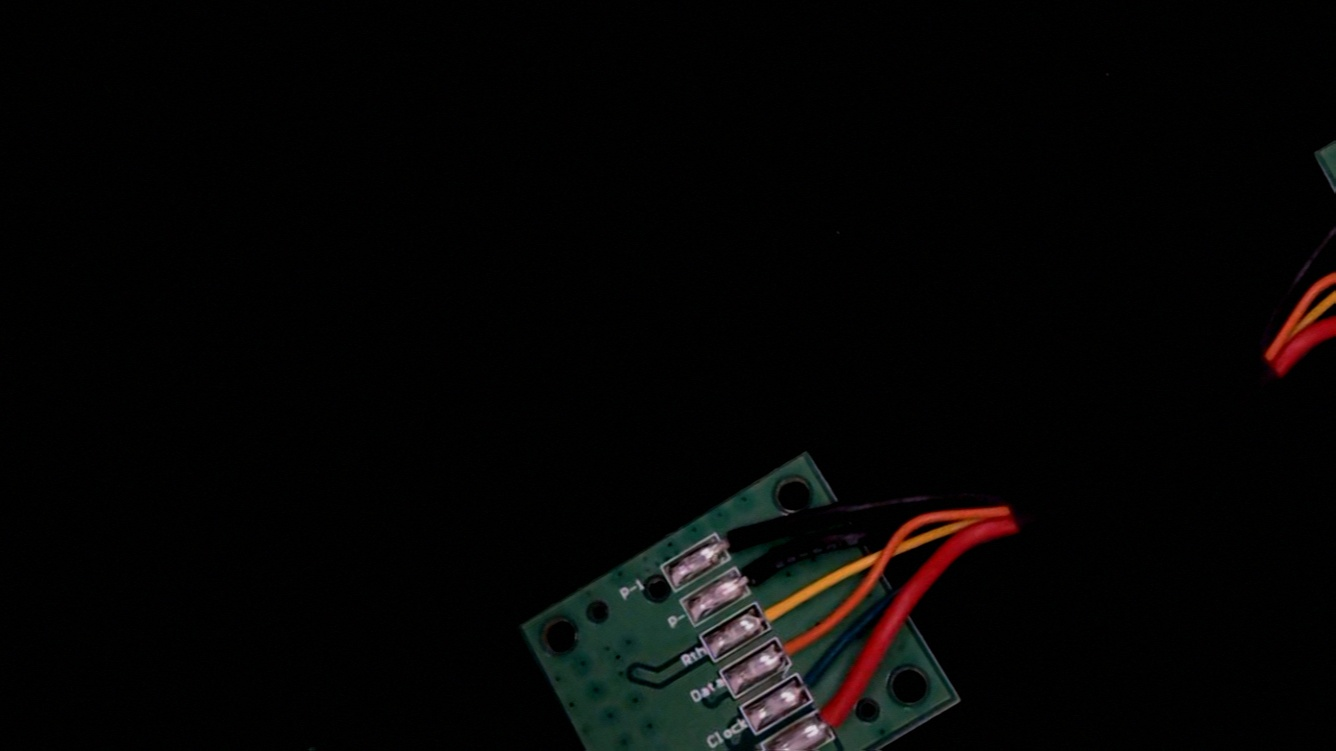Black: (716, 538, 800, 608)
Black1: (697, 505, 775, 571)
Green: (773, 648, 854, 716)
Orange: (758, 611, 839, 678)
Red: (799, 683, 880, 750)
Yellow: (737, 572, 822, 641)
